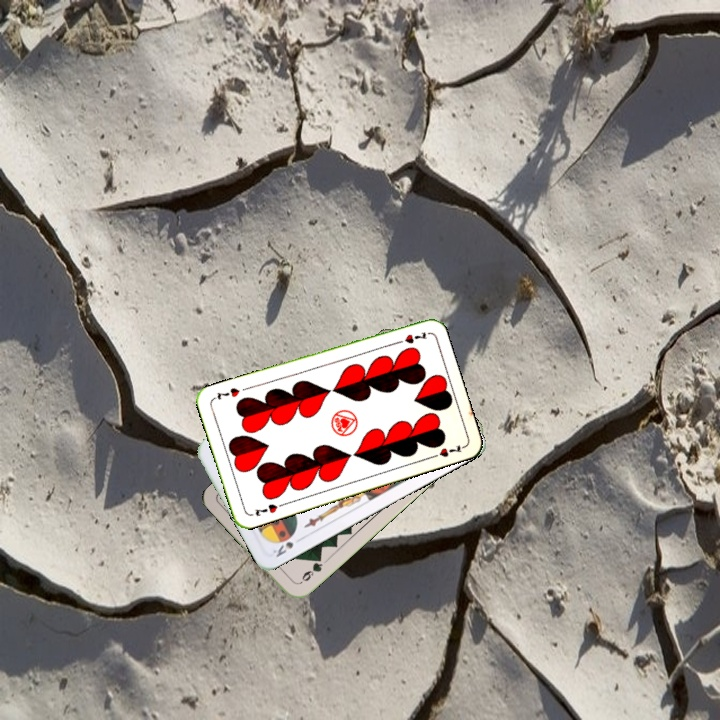G9: (295, 552, 326, 587)
H7: (250, 499, 287, 519), (391, 328, 429, 347)
SK: (269, 533, 306, 560)
